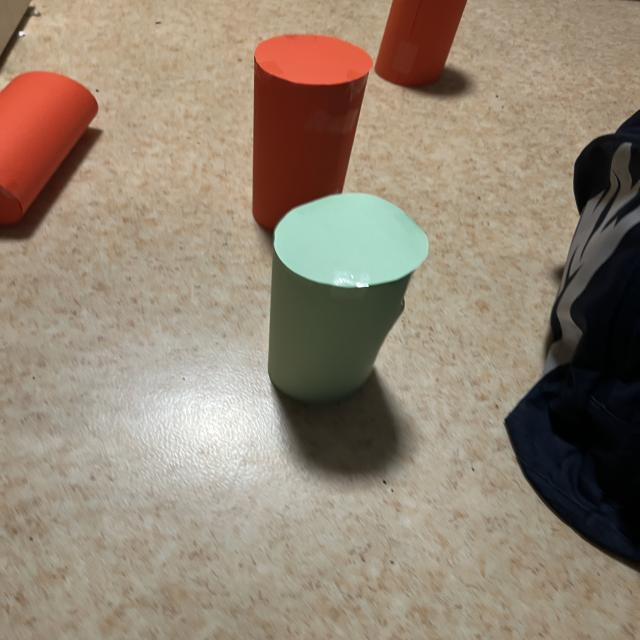meta: (268, 193, 428, 402)
przeszkoda: (253, 35, 372, 230), (0, 71, 98, 225), (375, 0, 466, 86)
